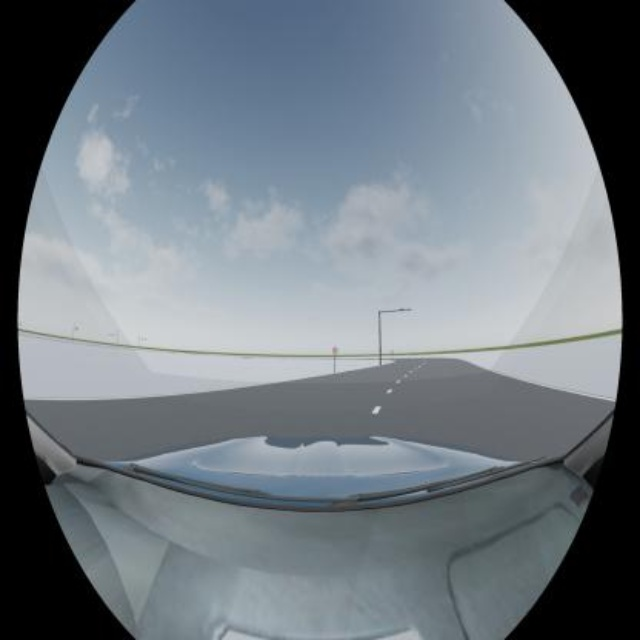Tốc độ tối đa cho phép 110km/h: (333, 347, 338, 354)
Đèn đỏ: (400, 308, 405, 311)
